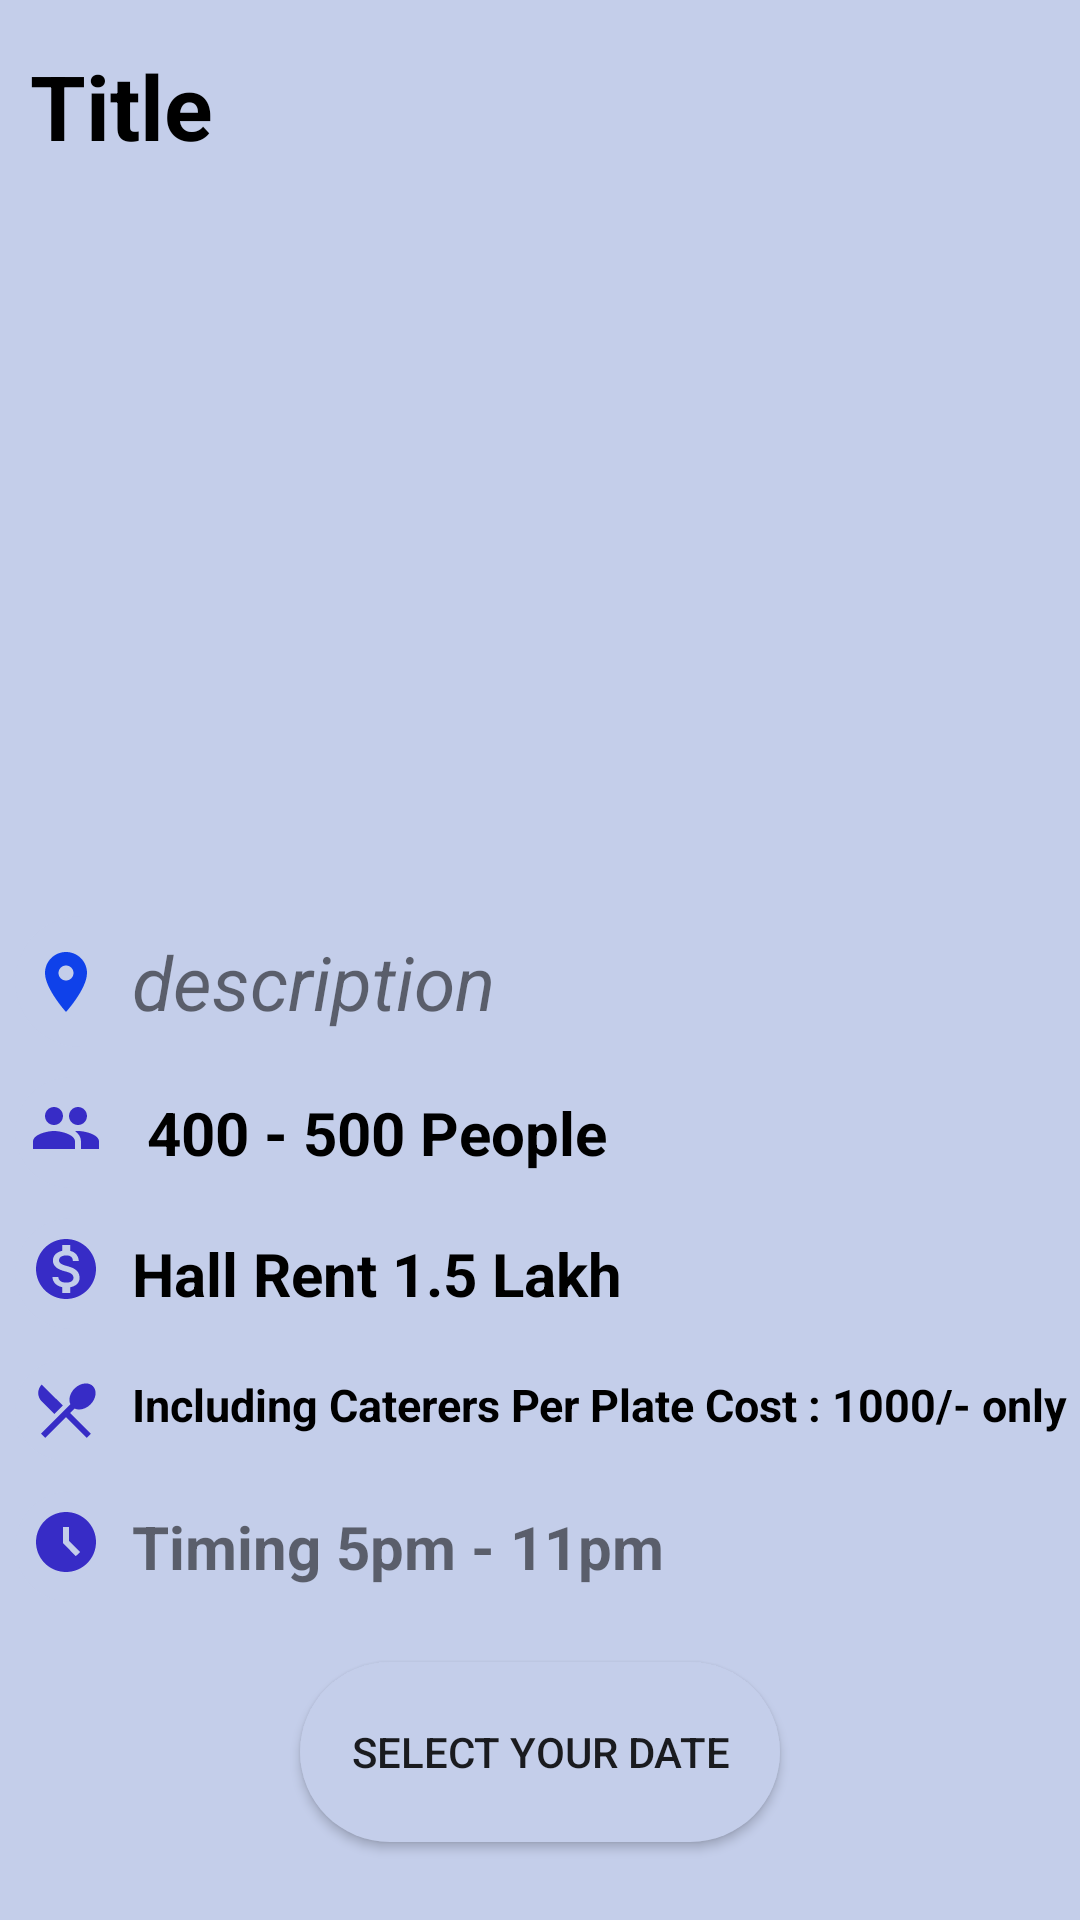

Screen size 1080w x 1920h. Icon name, then its center in pixels as (x=x, y=y):
location: (x=66, y=982)
money: (x=66, y=1269)
watch: (x=66, y=1542)
